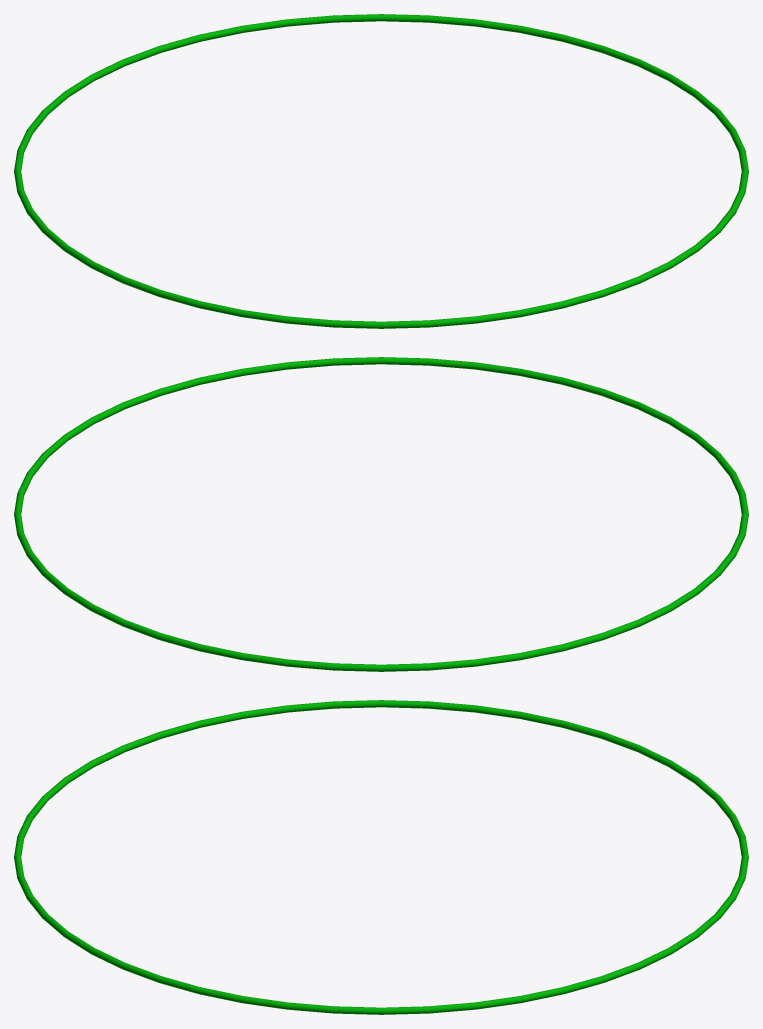
File: spikering3.gltf
3 views of the same model, one above another, from view 1: azimuth 30°, elevation 25°; view 2: azimuth 150°, elevation 25°; view 3: azimuth 270°, elevation 25° (orthographic).
Visible parts, largest first — view 1: Torus.001; view 2: Torus.001; view 3: Torus.001.
Boxes of the visible parts, x1,y1,x2,y2 form: Torus.001: (14, 14, 748, 328); Torus.001: (14, 357, 748, 671); Torus.001: (14, 700, 748, 1014).
Bounding box in the file's own units: 20.2 × 0.2 × 20.2.
